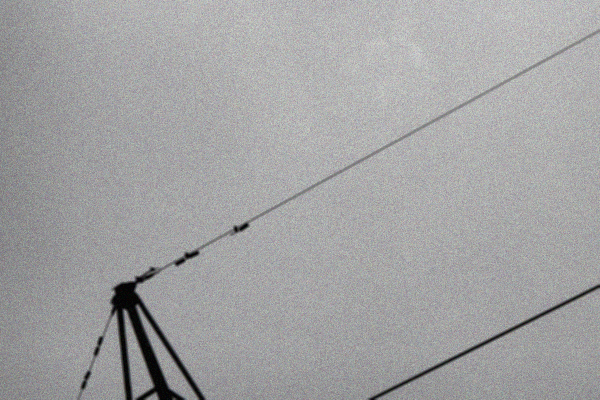damper: (173, 249, 200, 267)
damper_defect: (229, 220, 250, 237)
